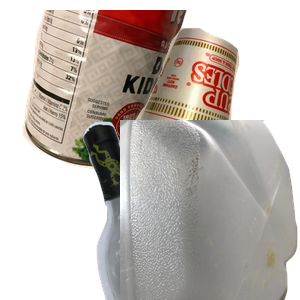glass: (81, 120, 300, 300)
metal: (20, 10, 199, 172)
plastic: (120, 120, 300, 300)
trash: (133, 25, 300, 167)
